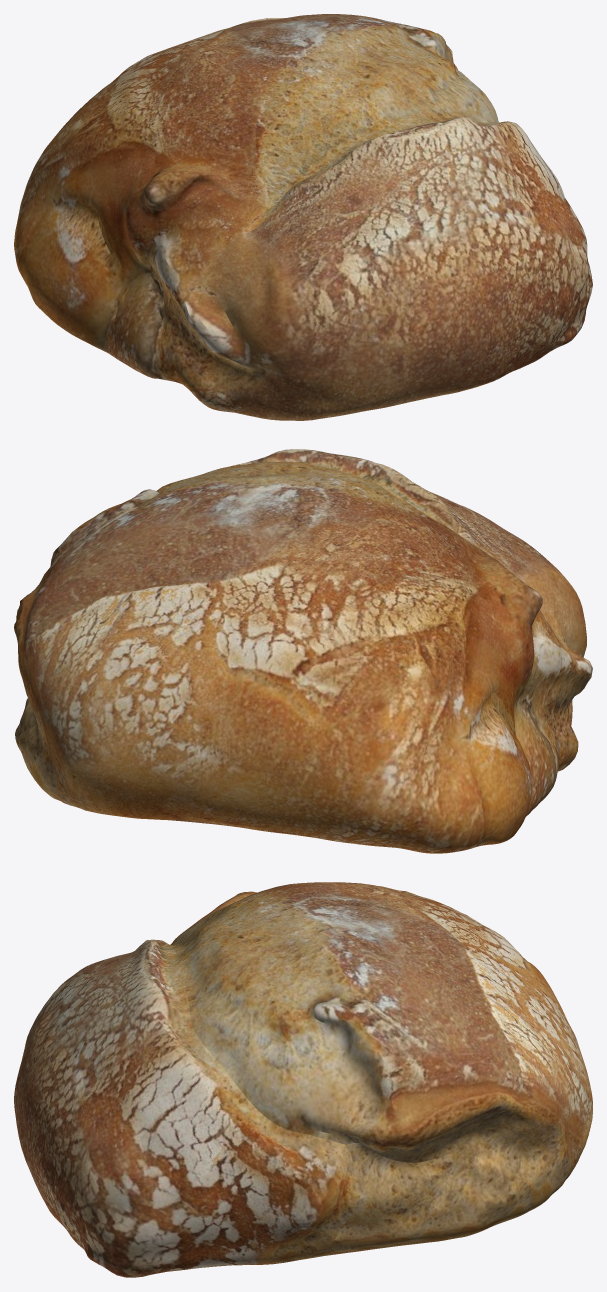
3 views of the same model, one above another, from view 1: azimuth 30°, elevation 25°; view 2: azimuth 150°, elevation 25°; view 3: azimuth 270°, elevation 25° (orthographic). The views are drawn at different scales.
Visible parts, largest first — view 1: Object_2; view 2: Object_2; view 3: Object_2.
Part boxes in pixels (<box>): Object_2: <box>14,14,592,420</box>; Object_2: <box>14,449,592,853</box>; Object_2: <box>14,882,592,1277</box>.
Bounding box in the file's own units: 0.2427 × 0.1428 × 0.26.
1 material, 1 textured.
